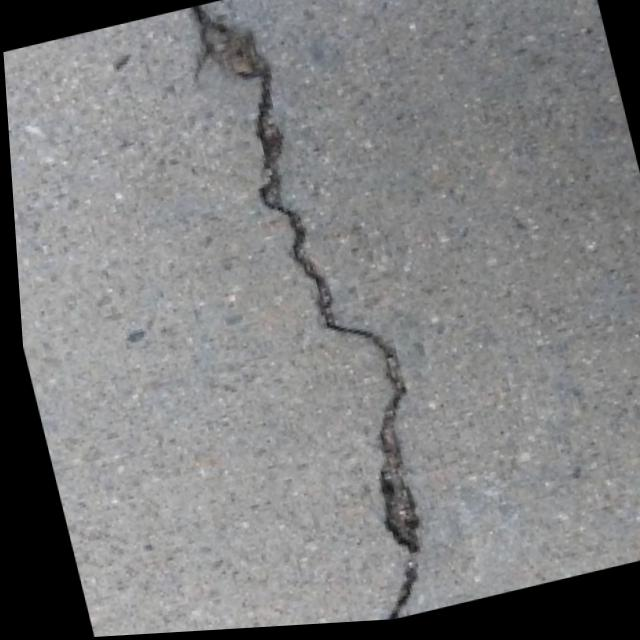Crack: (158, 0, 480, 633)
